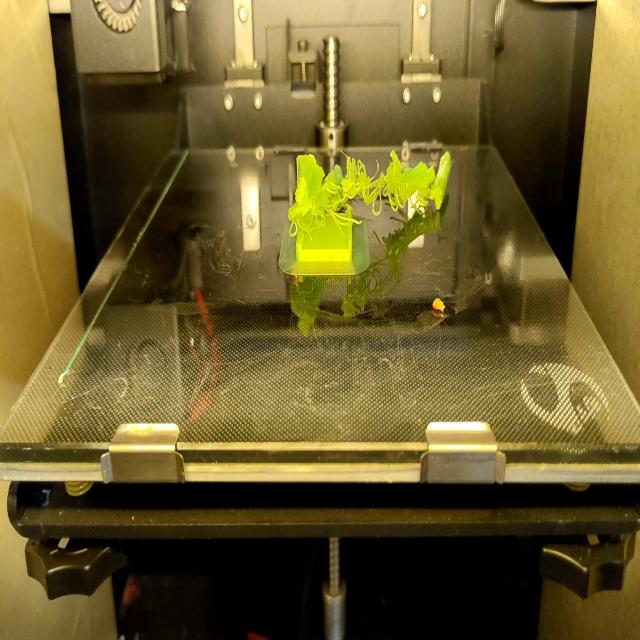spaghetti: (288, 149, 432, 236)
